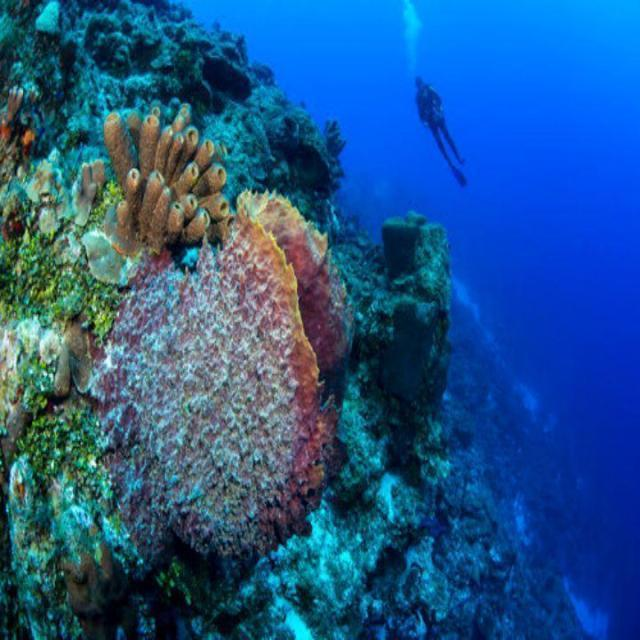Healthy Coral: (21, 77, 369, 593)
